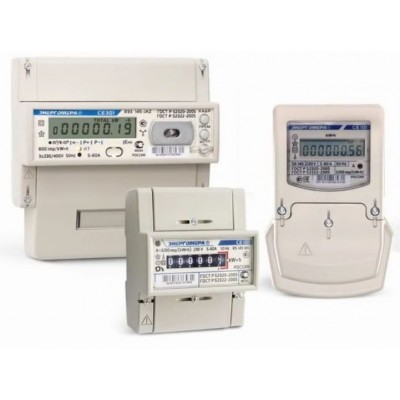counter: (10, 55, 220, 185), (266, 103, 392, 295), (135, 185, 260, 330)
counter_screen: (46, 115, 138, 139), (298, 138, 366, 158), (165, 252, 228, 269)
